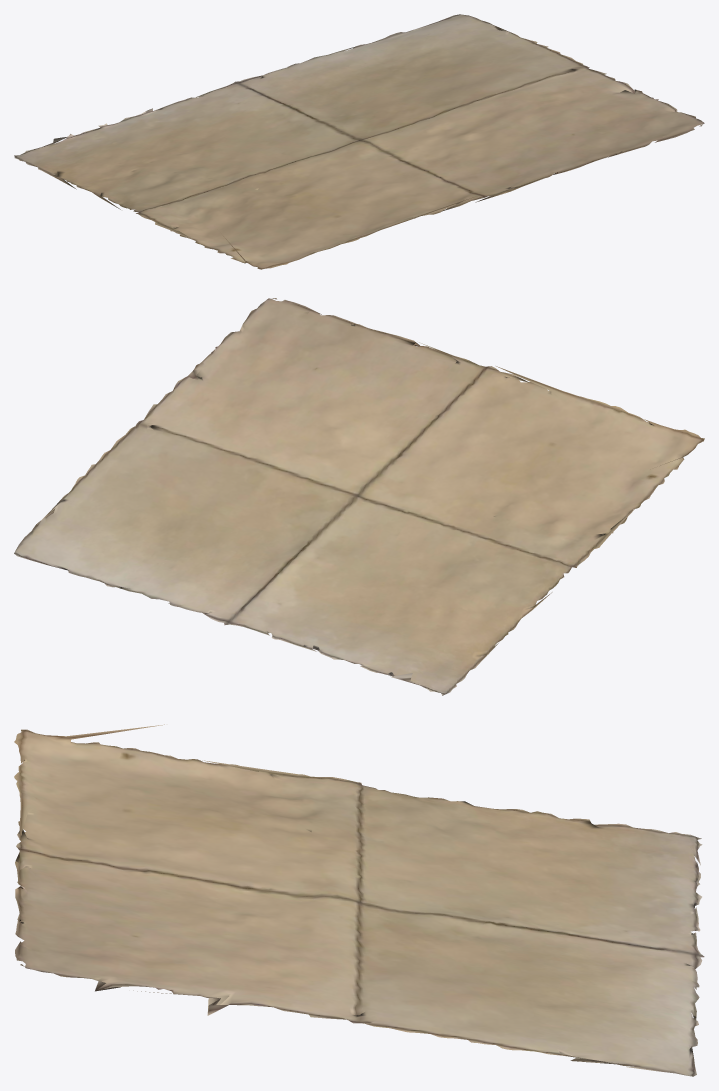
File: KitchenFloor.obj
3 renders of one model, top to bottom at view 1: azimuth 30°, elevation 25°; view 2: azimuth 150°, elevation 25°; view 3: azimuth 270°, elevation 25°, orthographic. The views are drawn at different scales.
Visible parts, largest first — view 1: model_model_material0001, model_model_material0000; view 2: model_model_material0001, model_model_material0000; view 3: model_model_material0001, model_model_material0000.
Part boxes in pixels (<box>): model_model_material0001: <box>66,14,704,269</box>; model_model_material0000: <box>14,136,233,258</box>; model_model_material0001: <box>14,298,704,676</box>; model_model_material0000: <box>390,468,677,695</box>; model_model_material0001: <box>14,724,704,1076</box>; model_model_material0000: <box>95,742,702,865</box>.
Bounding box in the file's own units: 4.71 × 1.11 × 4.65.
